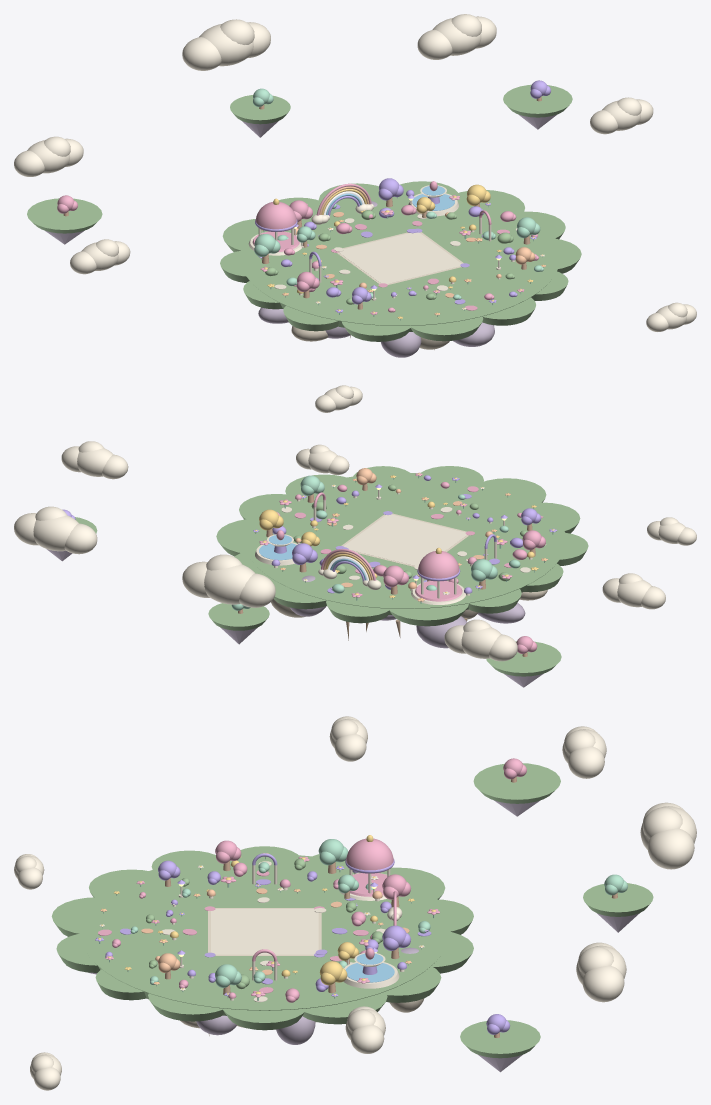
The model's file is romantic-garden.glb.
3 views of the same model, one above another, from view 1: azimuth 30°, elevation 25°; view 2: azimuth 150°, elevation 25°; view 3: azimuth 270°, elevation 25° (orthographic). The views are drawn at different scales.
Visible parts, largest first — view 1: Island_Upper_Sage_Lawn, Board_Clearing_Platform, Fluffy_Sky_Cloud_3, Fluffy_Sky_Cloud_2, Fluffy_Sky_Cloud_1, Distant_Island_1_Top, Fluffy_Sky_Cloud_5, Distant_Island_2_Top, Fluffy_Sky_Cloud_4, Distant_Island_3_Top, Island_Edge_Lobe_5, Fluffy_Sky_Cloud_7 (+9 smaller); view 2: Island_Upper_Sage_Lawn, Board_Clearing_Platform, Fluffy_Sky_Cloud_3, Fluffy_Sky_Cloud_2, Fluffy_Sky_Cloud_1, Fluffy_Sky_Cloud_5, Fluffy_Sky_Cloud_4, Distant_Island_1_Top, Distant_Island_3_Top, Island_Edge_Lobe_10, Fluffy_Sky_Cloud_7, Fluffy_Sky_Cloud_6 (+21 smaller); view 3: Island_Upper_Sage_Lawn, Board_Clearing_Platform, Fluffy_Sky_Cloud_3, Distant_Island_1_Top, Fluffy_Sky_Cloud_2, Distant_Island_2_Top, Fluffy_Sky_Cloud_1, Distant_Island_3_Top, Fluffy_Sky_Cloud_5, Fluffy_Sky_Cloud_4, Island_Edge_Lobe_1, Gazebo_Dome_Roof (+15 smaller).
Part boxes in pixels (box(x1,y1,x2,y2)): Island_Upper_Sage_Lawn: box(240, 190, 560, 331); Board_Clearing_Platform: box(339, 232, 461, 283); Fluffy_Sky_Cloud_3: box(182, 19, 270, 70); Fluffy_Sky_Cloud_2: box(417, 14, 496, 59); Fluffy_Sky_Cloud_1: box(14, 136, 83, 176); Distant_Island_1_Top: box(27, 198, 102, 233); Fluffy_Sky_Cloud_5: box(590, 97, 653, 134); Distant_Island_2_Top: box(503, 84, 572, 117); Fluffy_Sky_Cloud_4: box(70, 239, 130, 274); Distant_Island_3_Top: box(230, 95, 290, 124); Island_Edge_Lobe_5: box(411, 316, 483, 341); Fluffy_Sky_Cloud_7: box(646, 302, 696, 331); Island_Upper_Sage_Lawn: box(244, 472, 566, 614); Board_Clearing_Platform: box(343, 514, 466, 565); Fluffy_Sky_Cloud_3: box(182, 554, 275, 607); Fluffy_Sky_Cloud_2: box(14, 506, 97, 554); Fluffy_Sky_Cloud_1: box(444, 619, 517, 661); Fluffy_Sky_Cloud_5: box(61, 441, 128, 479); Fluffy_Sky_Cloud_4: box(602, 573, 665, 609); Distant_Island_1_Top: box(486, 641, 561, 676); Distant_Island_3_Top: box(208, 603, 269, 630); Island_Edge_Lobe_10: box(389, 603, 468, 626); Fluffy_Sky_Cloud_7: box(296, 444, 349, 474); Fluffy_Sky_Cloud_6: box(647, 517, 696, 545); Island_Upper_Sage_Lawn: box(79, 854, 449, 1015); Board_Clearing_Platform: box(211, 909, 318, 954); Fluffy_Sky_Cloud_3: box(640, 802, 696, 869); Distant_Island_1_Top: box(473, 763, 560, 803); Fluffy_Sky_Cloud_2: box(576, 942, 626, 1002); Distant_Island_2_Top: box(460, 1020, 540, 1058); Fluffy_Sky_Cloud_1: box(562, 726, 606, 778); Distant_Island_3_Top: box(583, 883, 653, 916); Fluffy_Sky_Cloud_5: box(345, 1006, 385, 1053); Fluffy_Sky_Cloud_4: box(329, 716, 367, 761); Island_Edge_Lobe_1: box(222, 1008, 306, 1030); Gazebo_Dome_Roof: box(346, 838, 393, 873).
Bounding box in the file's own units: 93.56 × 27.39 × 81.16.
